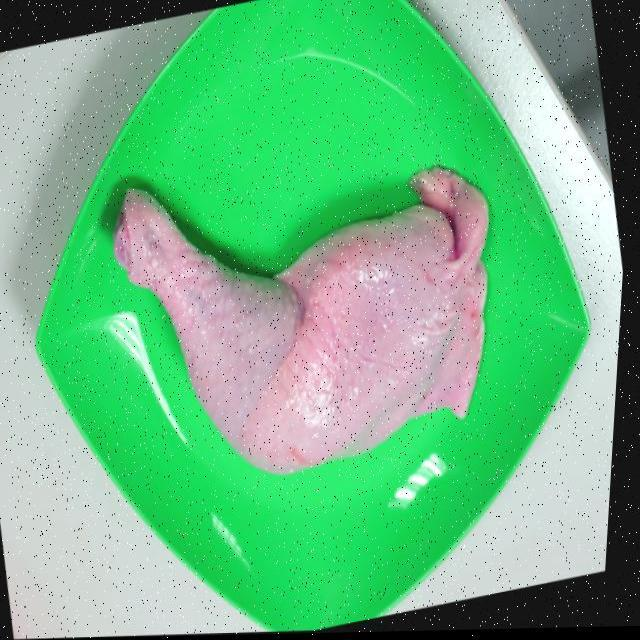quater: (106, 172, 497, 468)
